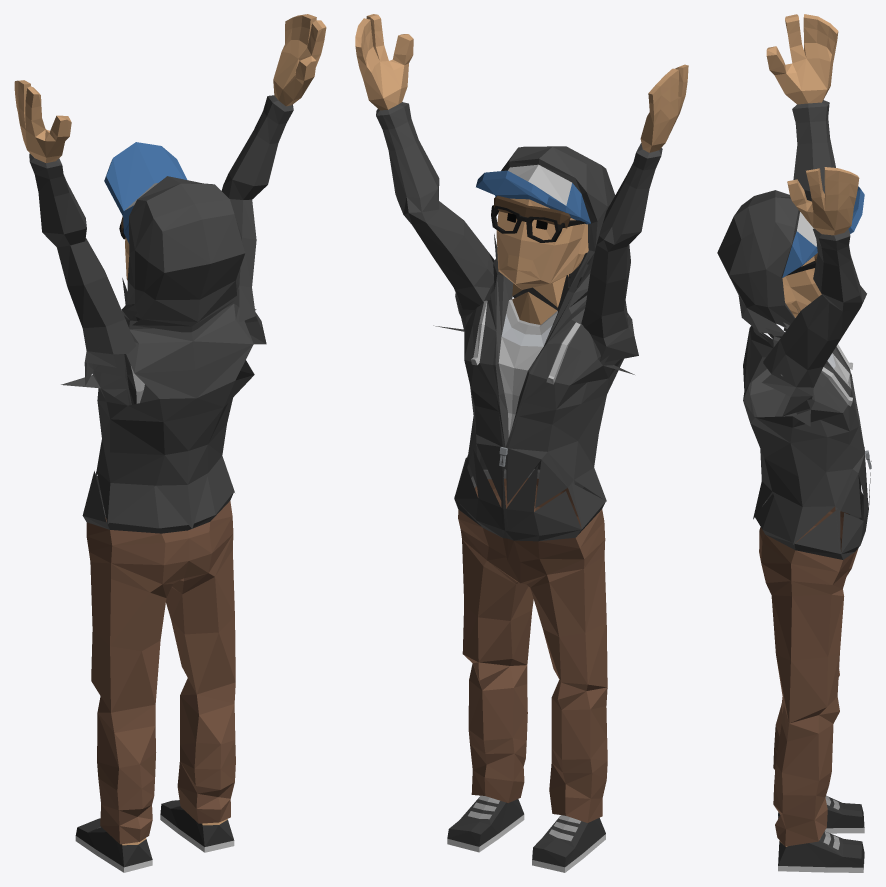
File: Demon_Son_01_cheer.obj
The picture shows the model from 3 angles, left to right: view 1: azimuth 30°, elevation 25°; view 2: azimuth 150°, elevation 25°; view 3: azimuth 270°, elevation 25°; orthographic projection. The views are drawn at different scales.
Parts seen in each view (by area): view 1: Demon_Son_01_cheer; view 2: Demon_Son_01_cheer; view 3: Demon_Son_01_cheer.
Part boxes in pixels (x1,y1,x2,y2): Demon_Son_01_cheer: [14, 14, 326, 872]; Demon_Son_01_cheer: [355, 14, 688, 872]; Demon_Son_01_cheer: [717, 14, 871, 872].
Size of the model in its own units: 0.873 by 2.18 by 0.3991.
Materials: 1 (1 with a texture image).
